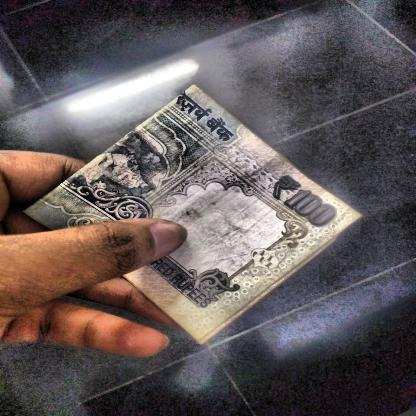Rs100: (261, 169, 348, 235)
